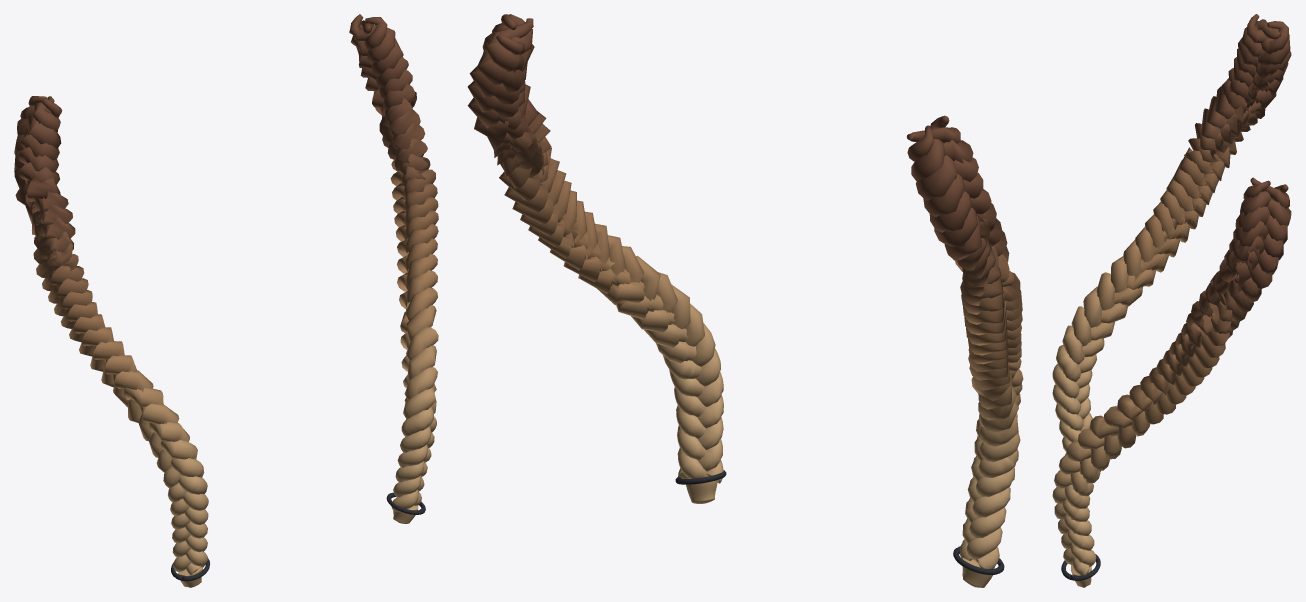
Rendered from twins-none-sweatshirt-ombre.glb.
The picture shows the model from 3 angles, left to right: view 1: azimuth 30°, elevation 25°; view 2: azimuth 150°, elevation 25°; view 3: azimuth 270°, elevation 25°; orthographic projection. The views are drawn at different scales.
Parts seen in each view (by area): view 1: 226 hairLengths / Hair / chestnut226, 226 hairLengths / Hair / ties226; view 2: 226 hairLengths / Hair / chestnut226, 226 hairLengths / Hair / ties226; view 3: 226 hairLengths / Hair / chestnut226, 226 hairLengths / Hair / ties226.
Boxes of the visible parts, x1,y1,x2,y2 form: 226 hairLengths / Hair / chestnut226: [14, 14, 438, 587]; 226 hairLengths / Hair / ties226: [171, 492, 425, 581]; 226 hairLengths / Hair / chestnut226: [467, 14, 1023, 587]; 226 hairLengths / Hair / ties226: [675, 470, 1004, 574]; 226 hairLengths / Hair / chestnut226: [1052, 14, 1291, 587]; 226 hairLengths / Hair / ties226: [1061, 470, 1100, 580].
Size of the model in its own units: 0.8712 by 0.9287 by 0.4503.
Materials: 2 (1 with a texture image).
